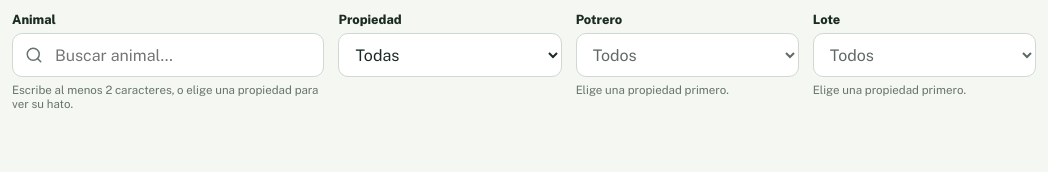
AnimalPicker › busca en toda la propiedad sin necesidad de escribir texto
Select "Hacienda Santa Bárbara" in the dropdown labelled "Propiedad" at point(450, 55), box [340,34,561,76]
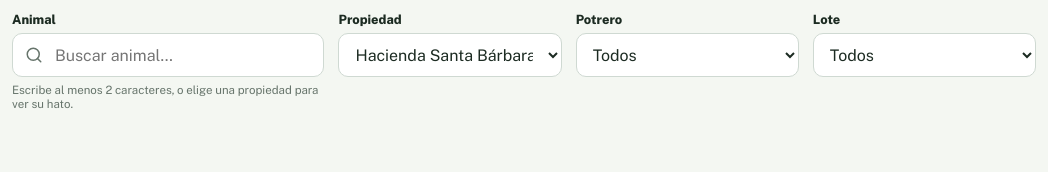
Result: the dropdown labelled "Potrero" is enabled at [577,34,798,76]
Result: the dropdown labelled "Lote" is enabled at [814,34,1035,76]
